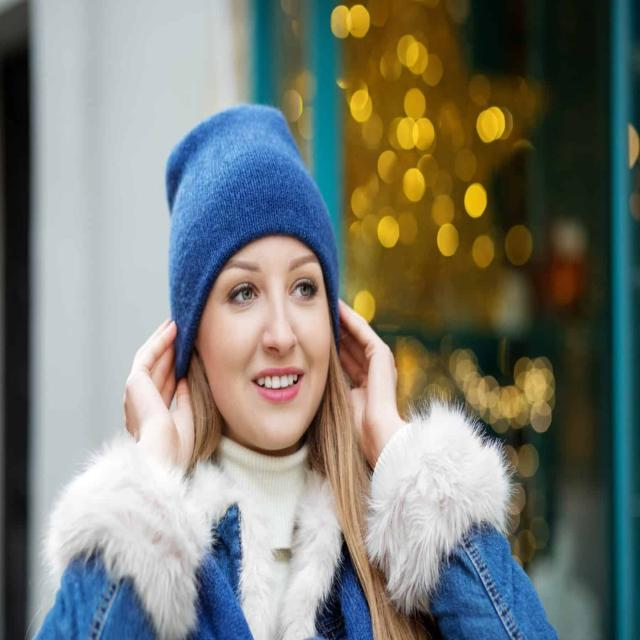hat: (155, 55, 334, 368)
